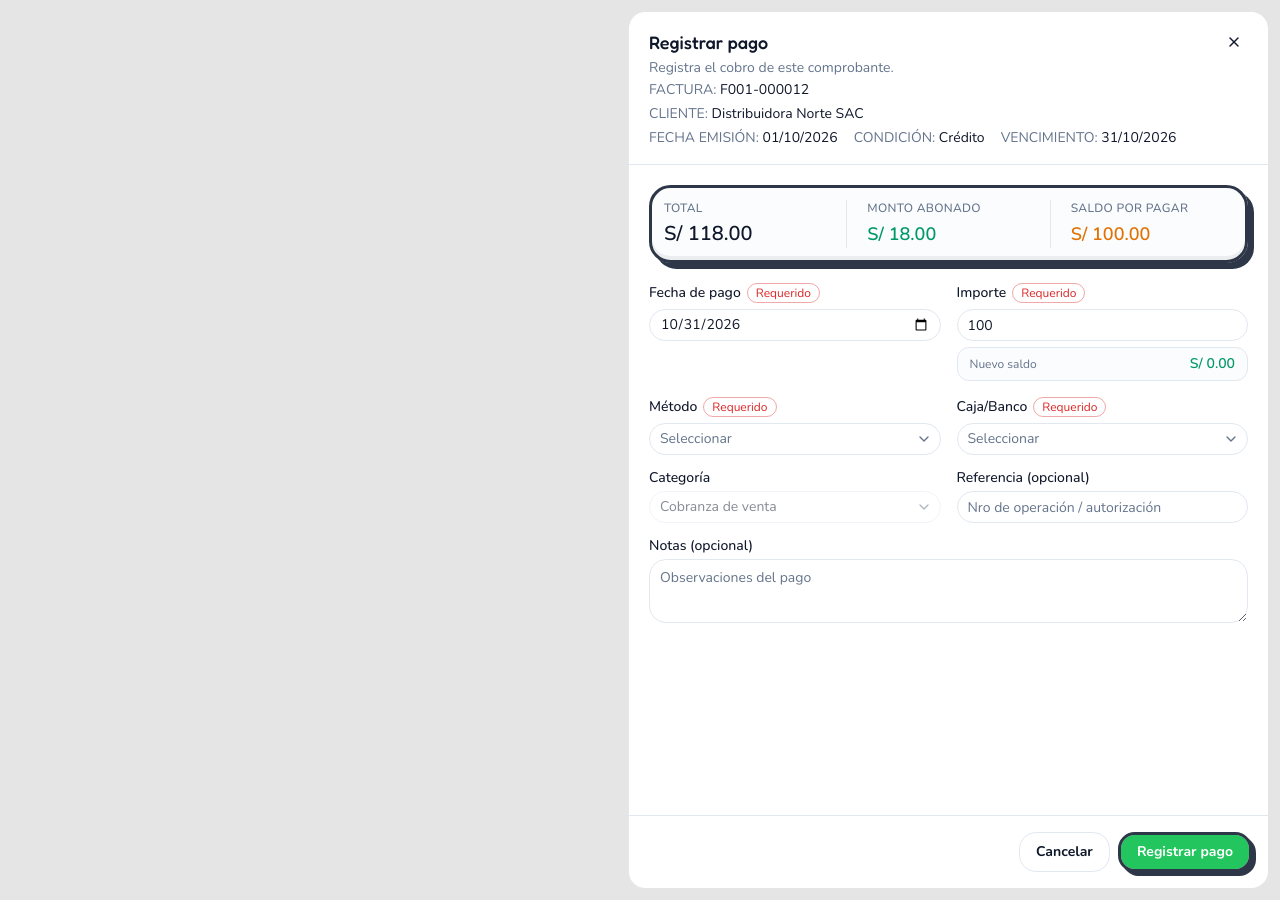
it: PaymentDrawer › mantiene Seleccionar en Método y limpia la cuenta incompatible
Click the dropdown named "Método".
click(696, 438)  # box [649, 423, 940, 455]
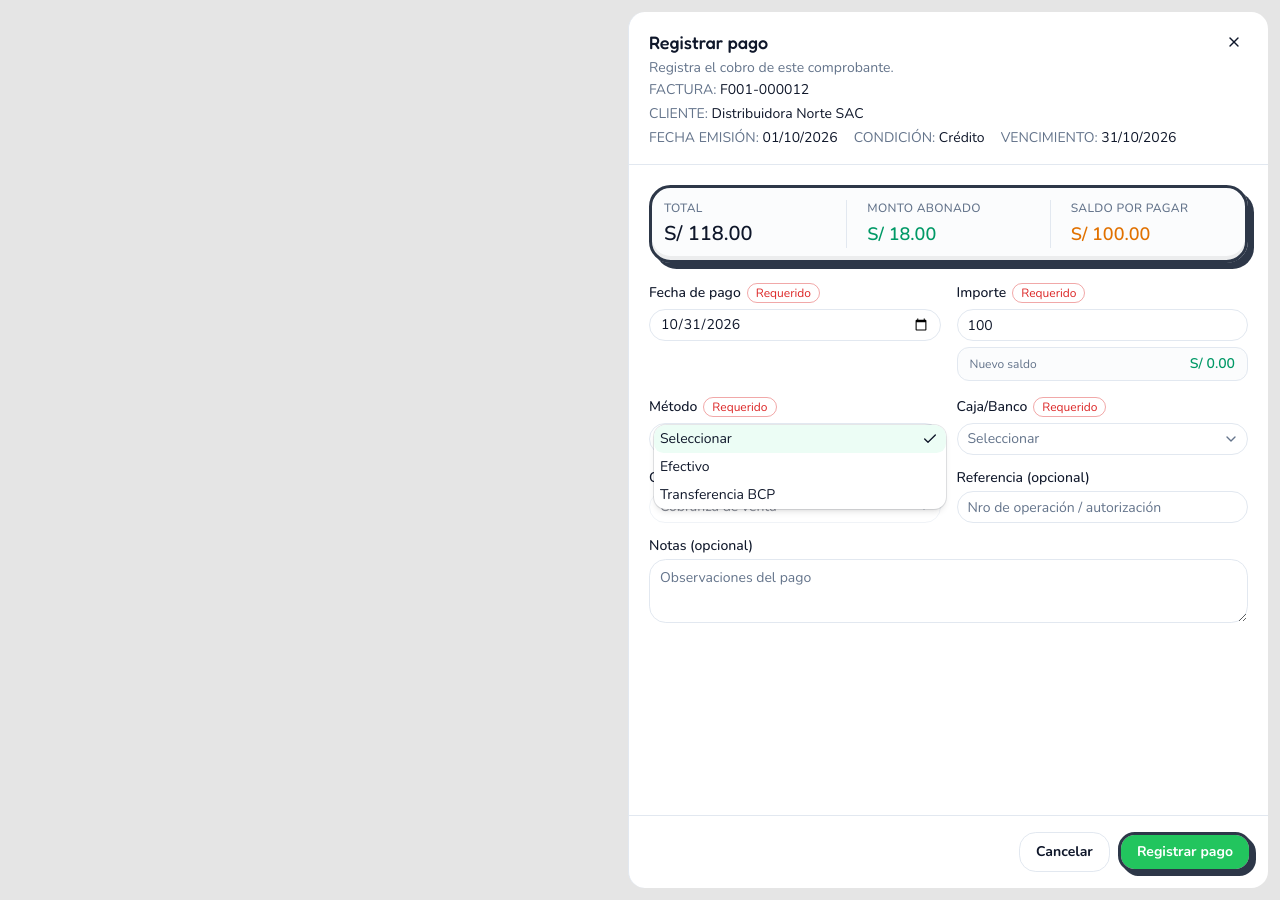
Click the option "Transferencia BCP".
click(718, 494)  # box [660, 485, 775, 504]
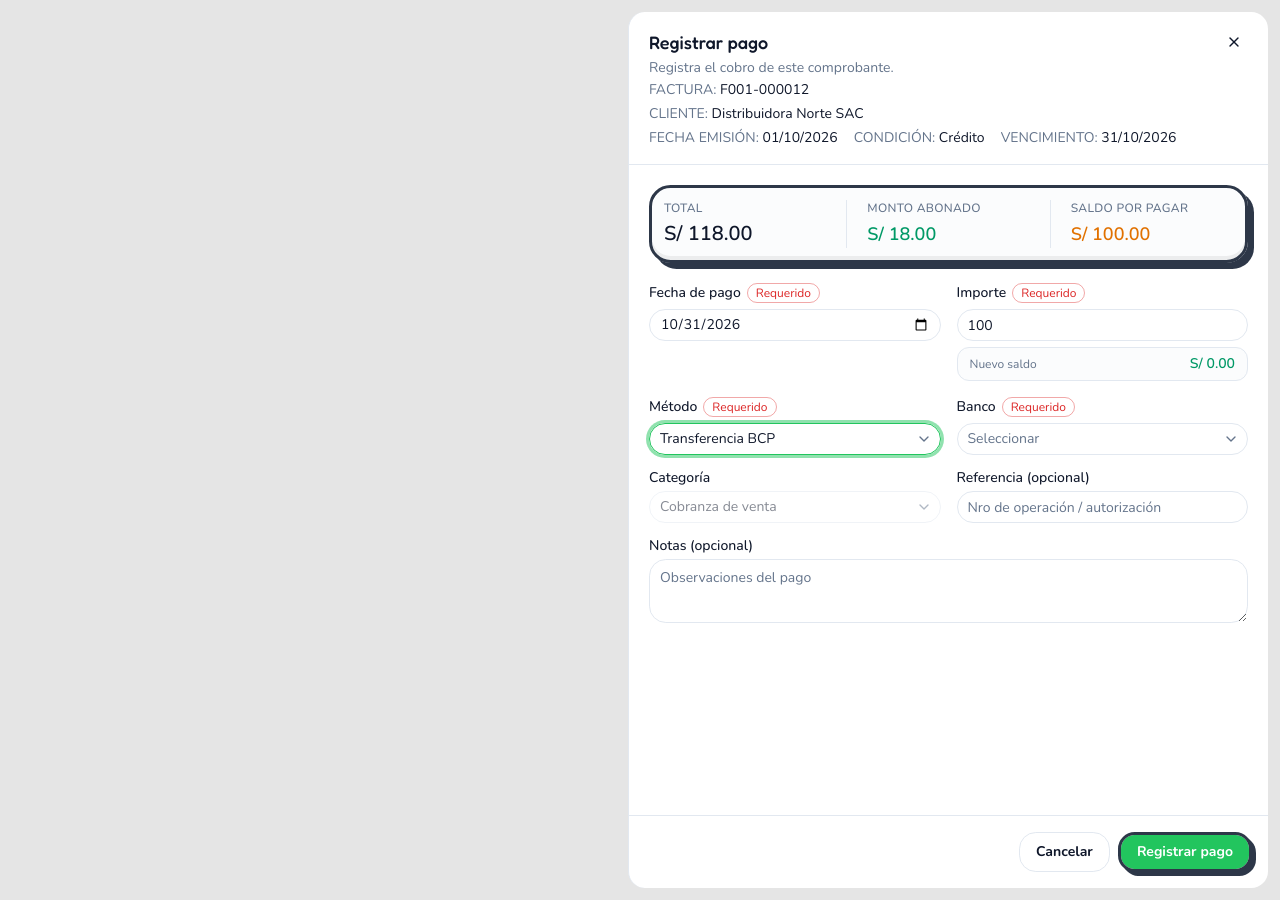
Click the dropdown named "Banco".
click(1003, 438)  # box [956, 423, 1248, 455]
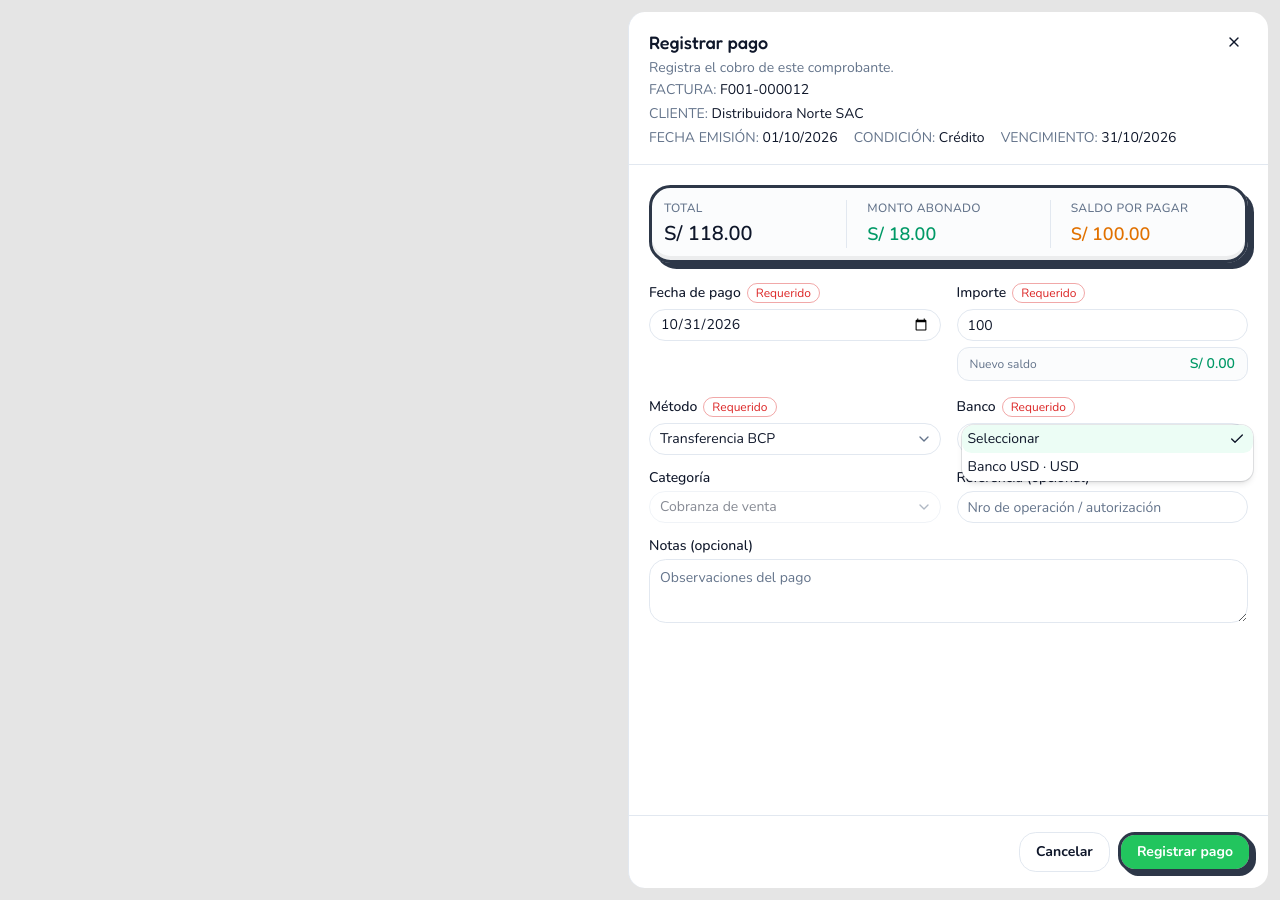
Click the option "Banco USD · USD".
click(1023, 466)  # box [968, 457, 1079, 476]
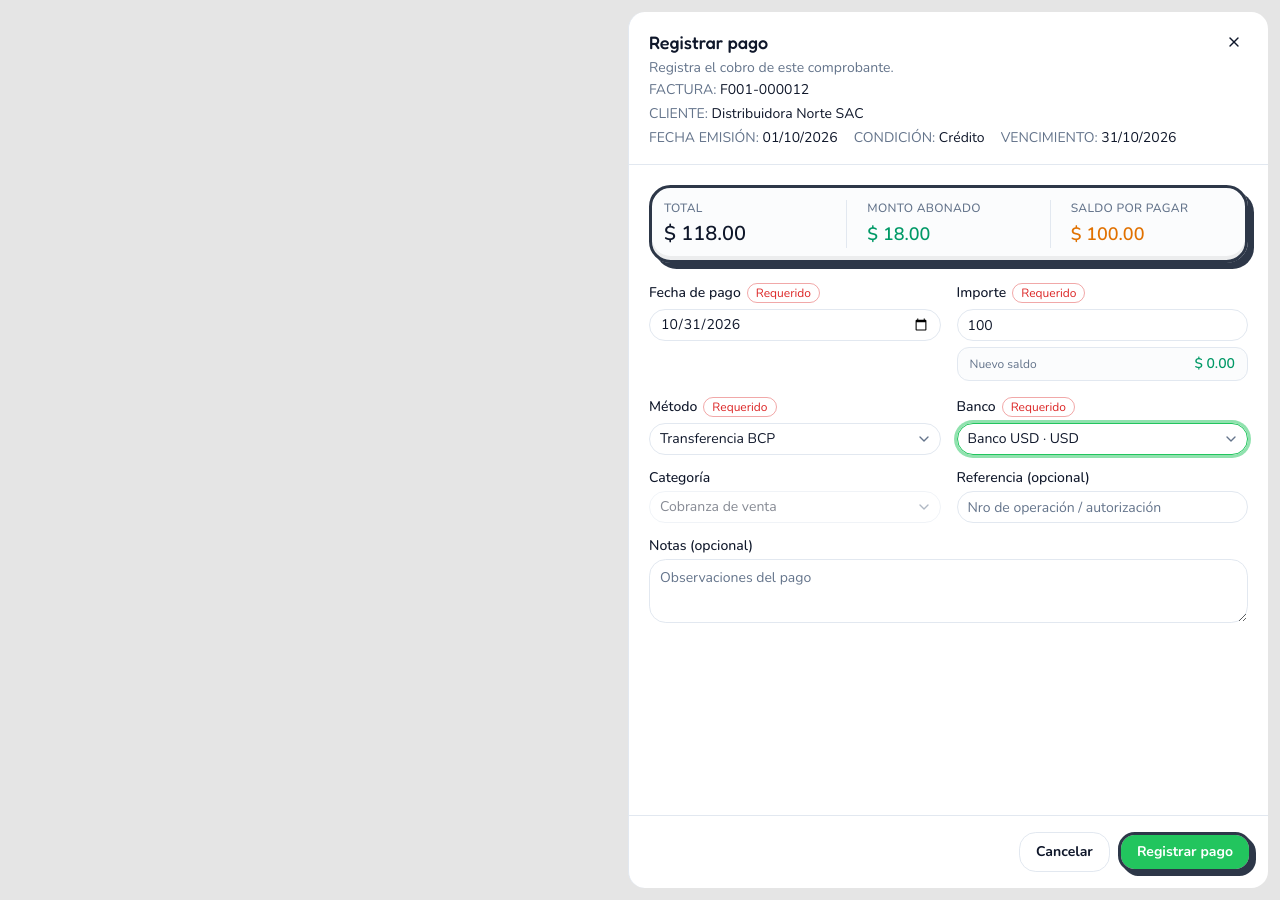
Expected: the dropdown labelled "Banco" shows "Banco USD", [956, 423, 1248, 455]
Click the dropdown named "Método".
click(718, 438)  # box [649, 423, 940, 455]
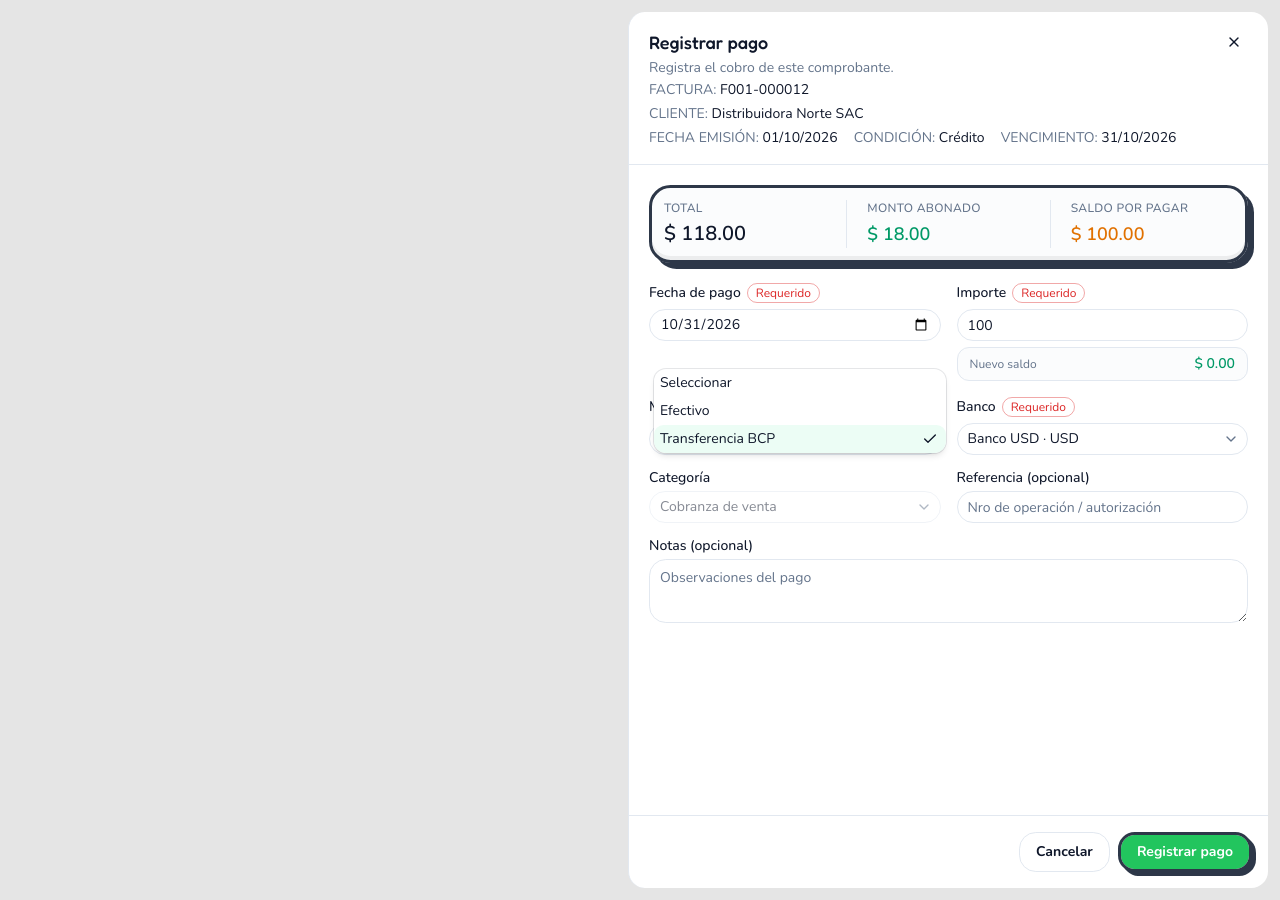
Click the option "Seleccionar".
click(696, 382)  # box [660, 373, 732, 392]
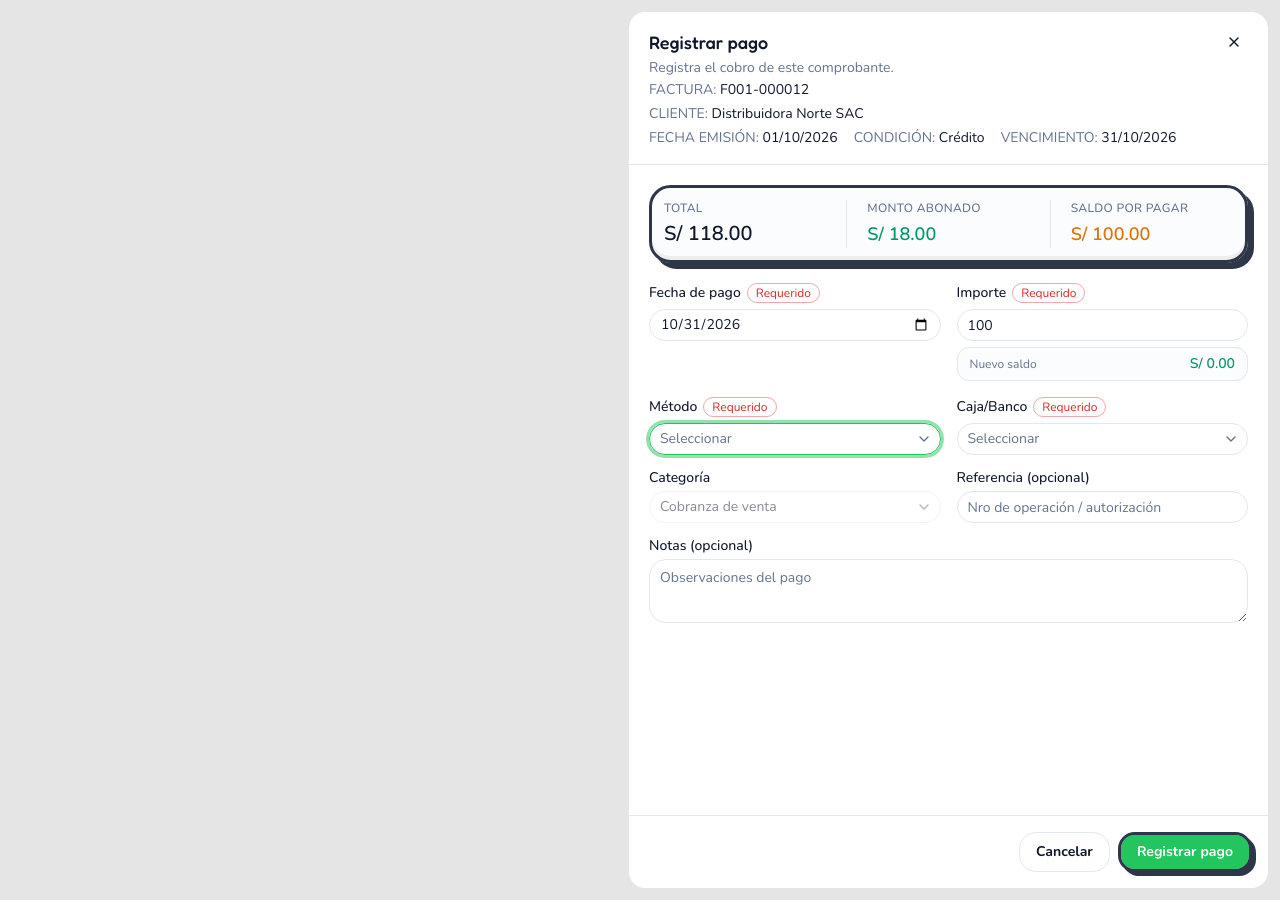
Expected: the dropdown named "Método" shows "Seleccionar", [649, 423, 940, 455]
Expected: the dropdown named "Caja/Banco" shows "Seleccionar", [956, 423, 1248, 455]
